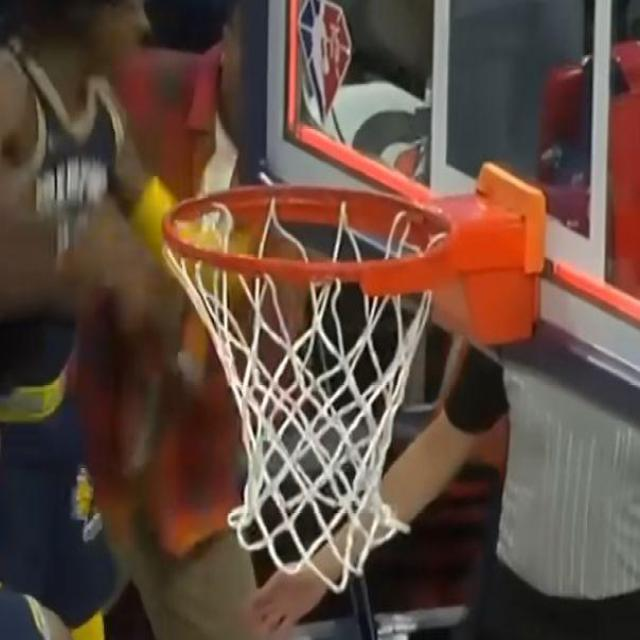hoop: (140, 200, 506, 585)
